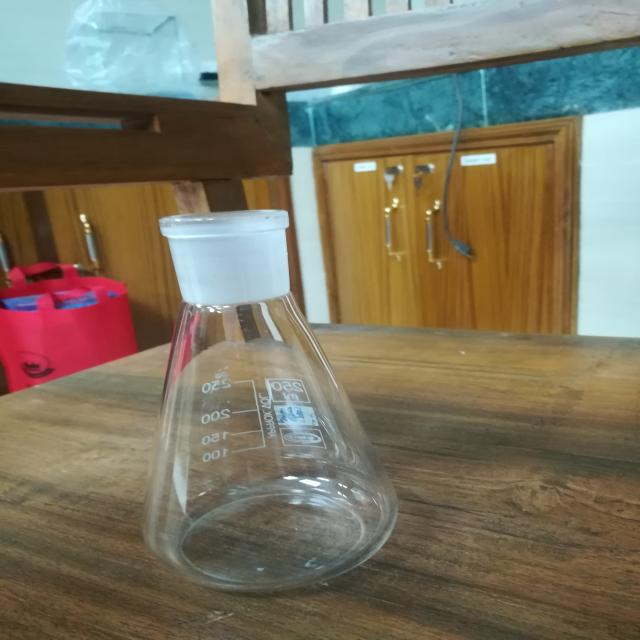Conical_Flask: (91, 176, 459, 612)
